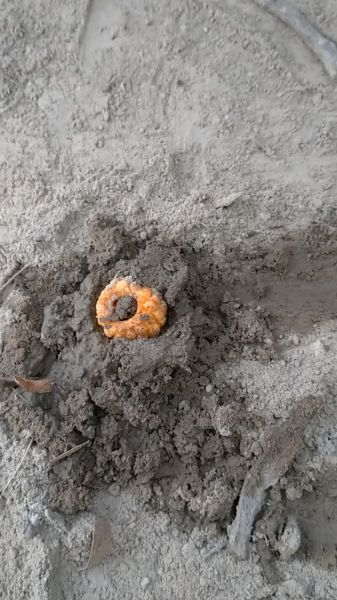eggs: (92, 270, 176, 347)
